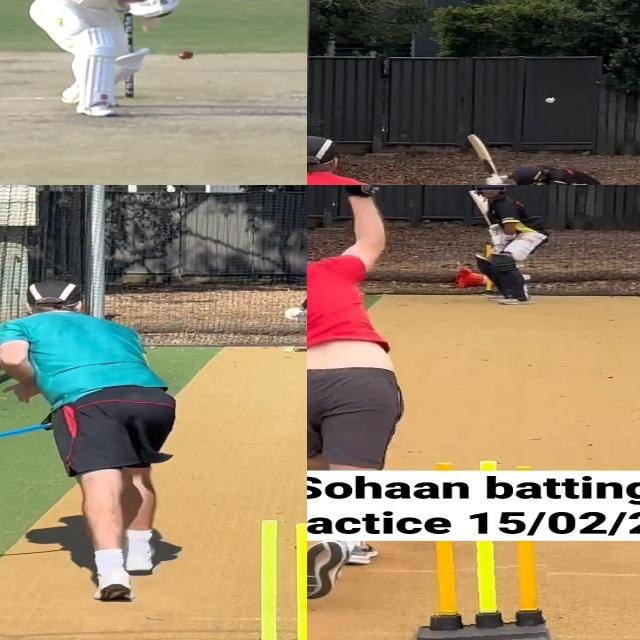Cricket ball: (177, 51, 195, 61), (283, 346, 295, 354), (545, 98, 556, 104)
Stumps: (430, 541, 545, 640), (256, 517, 307, 640)
